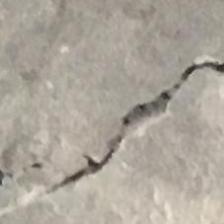Crack: (1, 6, 224, 224)
